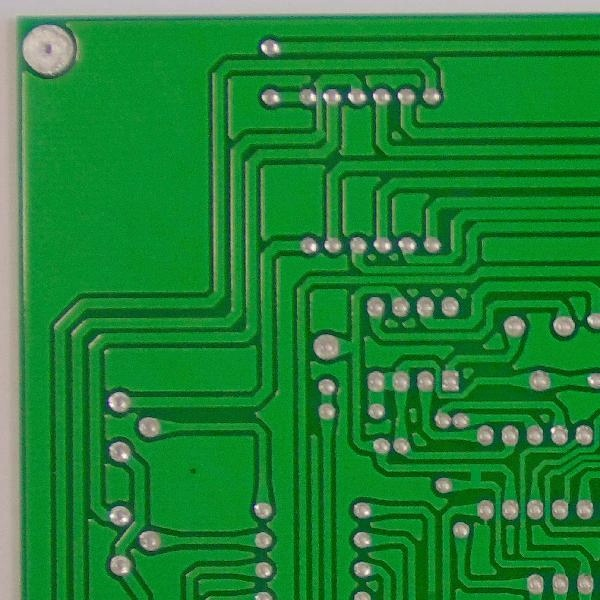short: (463, 460, 490, 490)
